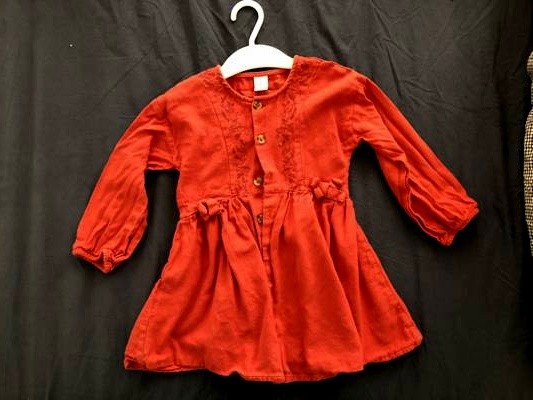Dress: (83, 28, 504, 391)
